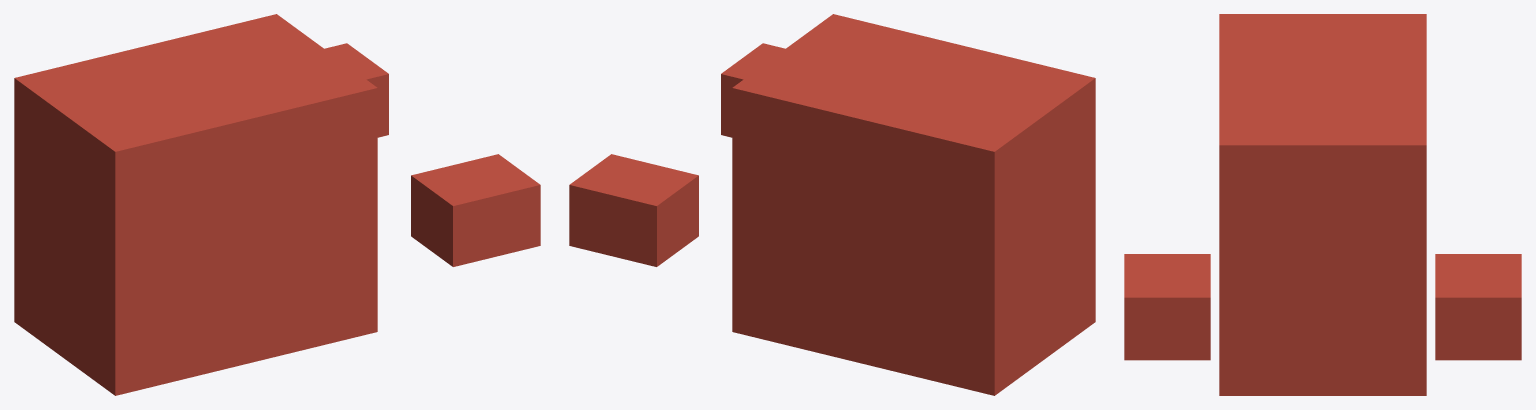
Rendered from E_LobsterBrute.fbx.
3 views of the same model, side by side, from view 1: azimuth 30°, elevation 25°; view 2: azimuth 150°, elevation 25°; view 3: azimuth 270°, elevation 25° (orthographic). The views are drawn at different scales.
Visible parts, largest first — view 1: E_LobsterBrute; view 2: E_LobsterBrute; view 3: E_LobsterBrute.
Part boxes in pixels (bbox=[...]): E_LobsterBrute: bbox=[14, 14, 540, 395]; E_LobsterBrute: bbox=[569, 14, 1095, 395]; E_LobsterBrute: bbox=[1124, 14, 1521, 395].
Bounding box in the file's own units: 1.3 × 0.8 × 1.15.
